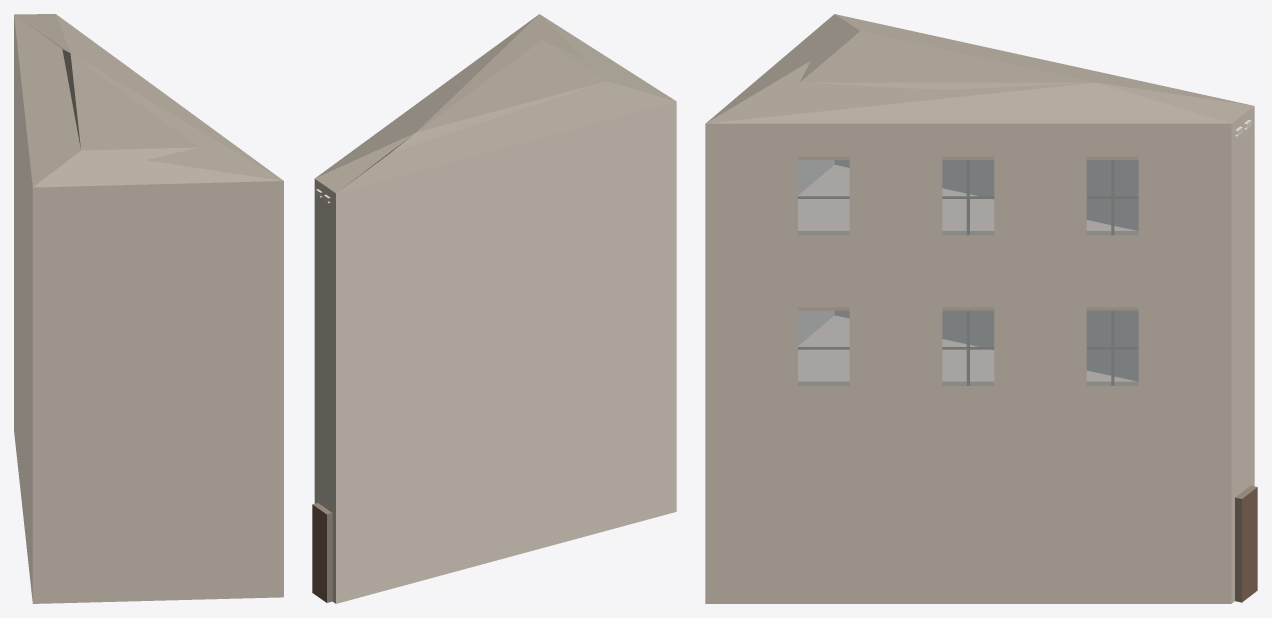
File: N-52-54-E2.n52_high_bay.glb
3 renders of one model, left to right at view 1: azimuth 30°, elevation 25°; view 2: azimuth 150°, elevation 25°; view 3: azimuth 270°, elevation 25°, orthographic. The views are drawn at different scales.
Visible parts, largest first — view 1: N-52-54-E2.n52_high_bay; view 2: N-52-54-E2.n52_high_bay; view 3: N-52-54-E2.n52_high_bay.
Part boxes in pixels (x1=…): N-52-54-E2.n52_high_bay: x1=14, y1=14, x2=283, y2=603; N-52-54-E2.n52_high_bay: x1=312, y1=14, x2=676, y2=603; N-52-54-E2.n52_high_bay: x1=705, y1=14, x2=1257, y2=603.
Size of the model in its own units: 5.15 by 10.55 by 10.63.
